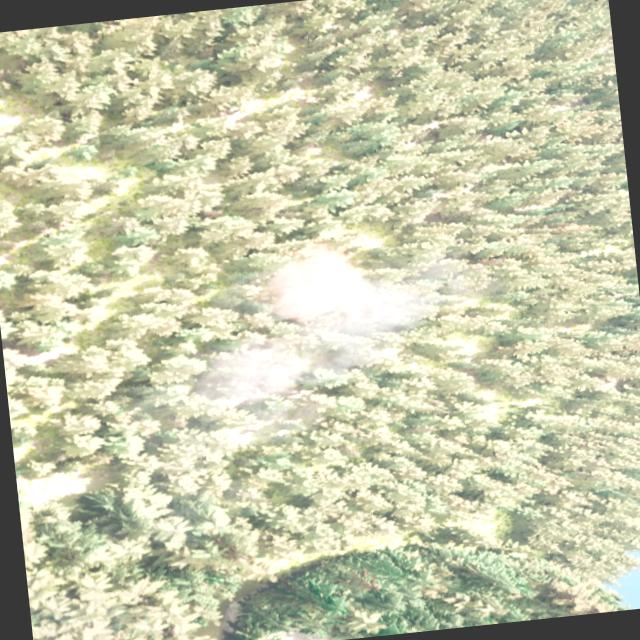smoke: (171, 222, 493, 438)
